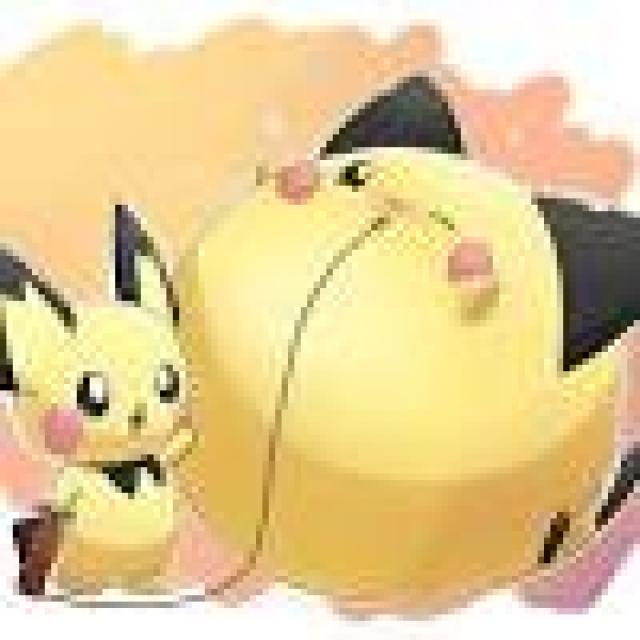pichu: (0, 195, 192, 596)
